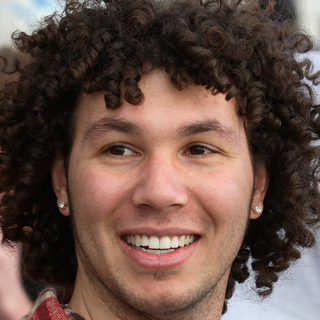eye: (85, 138, 150, 166), (175, 138, 228, 165)
